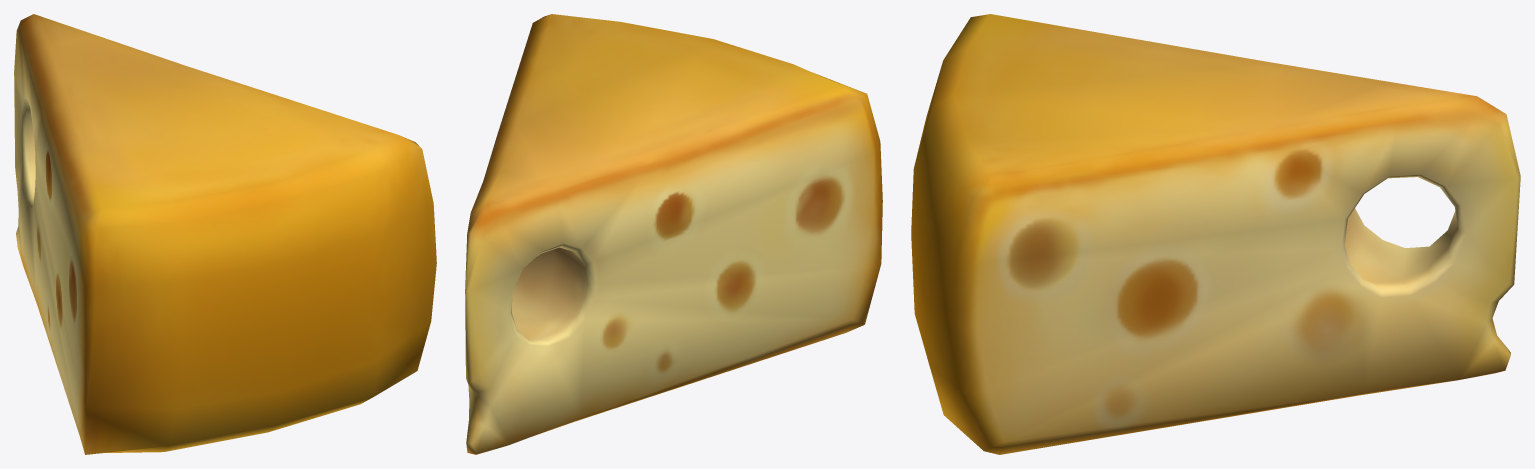
The model's file is cheese.glb.
3 views of the same model, side by side, from view 1: azimuth 30°, elevation 25°; view 2: azimuth 150°, elevation 25°; view 3: azimuth 270°, elevation 25° (orthographic). The views are drawn at different scales.
Parts seen in each view (by area): view 1: Object_2; view 2: Object_2; view 3: Object_2.
Boxes of the visible parts, <box> form: Object_2: <box>14,14,436,454</box>; Object_2: <box>465,14,882,454</box>; Object_2: <box>911,14,1520,454</box>.
Size of the model in its own units: 2.93 by 2.01 by 3.97.
Materials: 1 (1 with a texture image).
